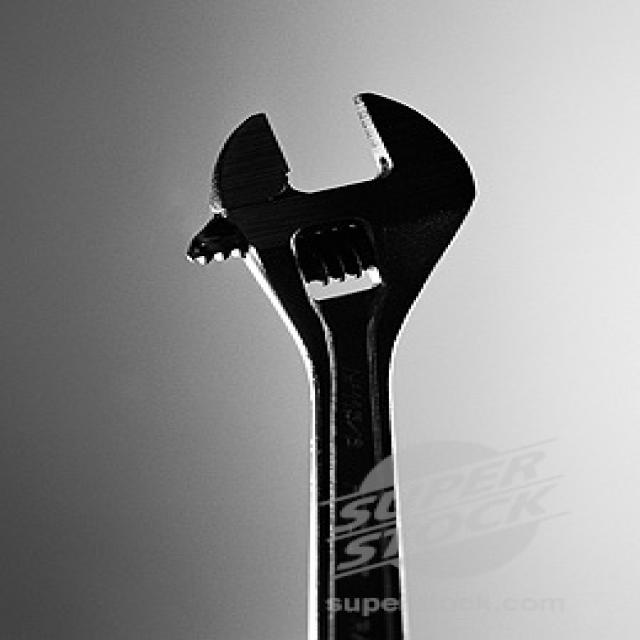wrench: (182, 69, 515, 640)
